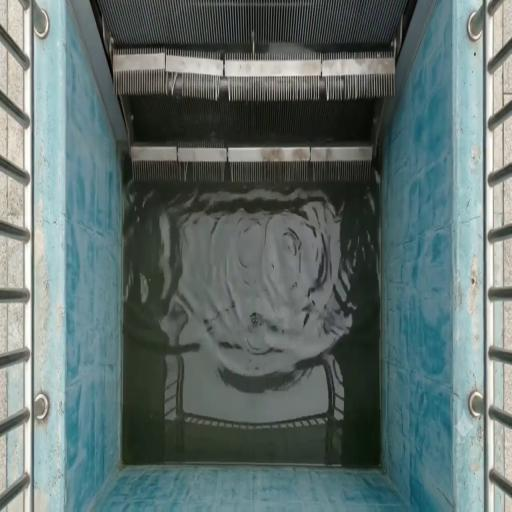rake: (98, 2, 420, 184)
rake_broken: (301, 60, 359, 113), (196, 52, 239, 110), (153, 49, 192, 101), (210, 134, 237, 191), (302, 139, 333, 188), (175, 136, 199, 189)
